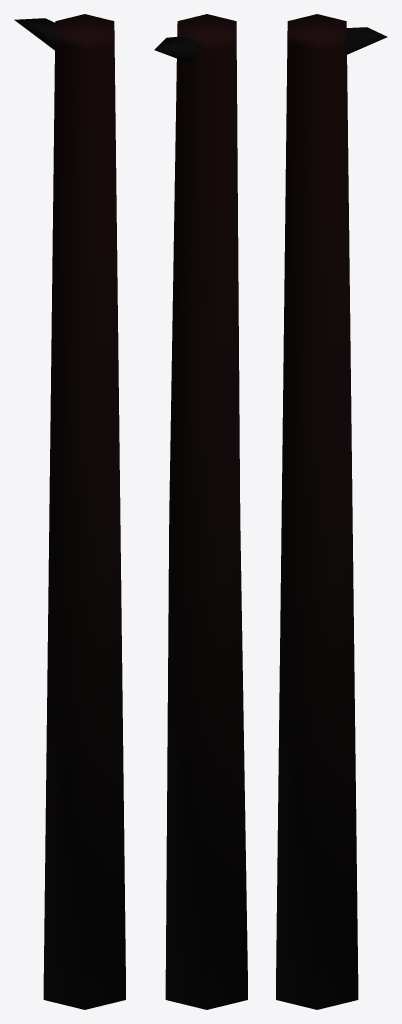
The model's file is broadleaf_b_mid.glb.
3 renders of one model, left to right at view 1: azimuth 90°, elevation 25°; view 2: azimuth 150°, elevation 25°; view 3: azimuth 270°, elevation 25°, orthographic.
Visible parts, largest first — view 1: broadleaf_b_mid; view 2: broadleaf_b_mid; view 3: broadleaf_b_mid.
Part boxes in pixels (x1=…): broadleaf_b_mid: x1=14, y1=14, x2=125, y2=1009; broadleaf_b_mid: x1=154, y1=14, x2=247, y2=1009; broadleaf_b_mid: x1=276, y1=14, x2=387, y2=1009.
Size of the model in its own units: 0.3472 by 3.88 by 0.4095.
1 material, 1 textured.
